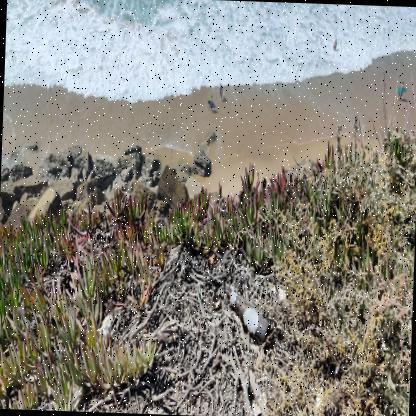Glass bottle: (227, 287, 271, 344)
Plastic film: (251, 402, 262, 416)
Tissues: (97, 314, 112, 341)
Unlabeled litter: (315, 388, 322, 407)
